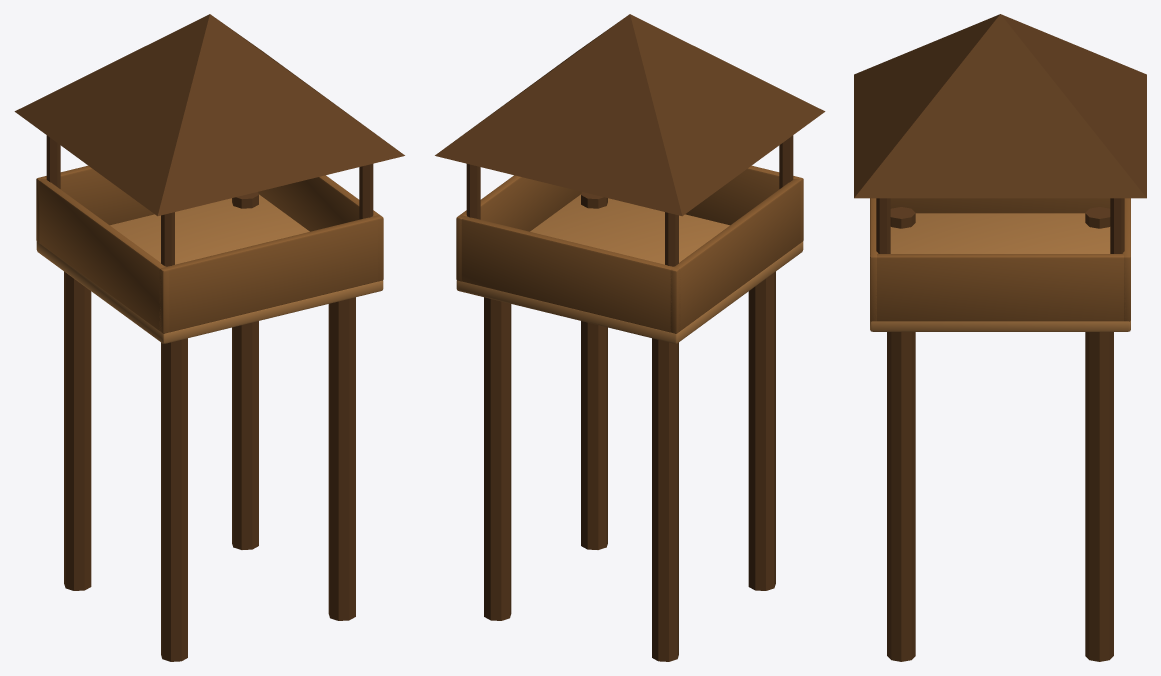
Rendered from naroznik_1.glb.
3 renders of one model, left to right at view 1: azimuth 30°, elevation 25°; view 2: azimuth 150°, elevation 25°; view 3: azimuth 270°, elevation 25°, orthographic. The views are drawn at different scales.
Visible parts, largest first — view 1: naroznik_1; view 2: naroznik_1; view 3: naroznik_1.
Part boxes in pixels (x1=…): naroznik_1: x1=14, y1=14, x2=404, y2=661; naroznik_1: x1=435, y1=14, x2=825, y2=661; naroznik_1: x1=854, y1=14, x2=1146, y2=661.
Bounding box in the file's own units: 3.25 × 7.35 × 3.25.
